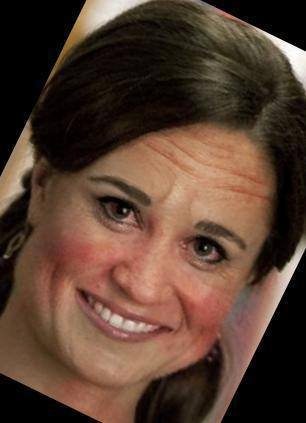Drunk: (35, 109, 259, 376)
